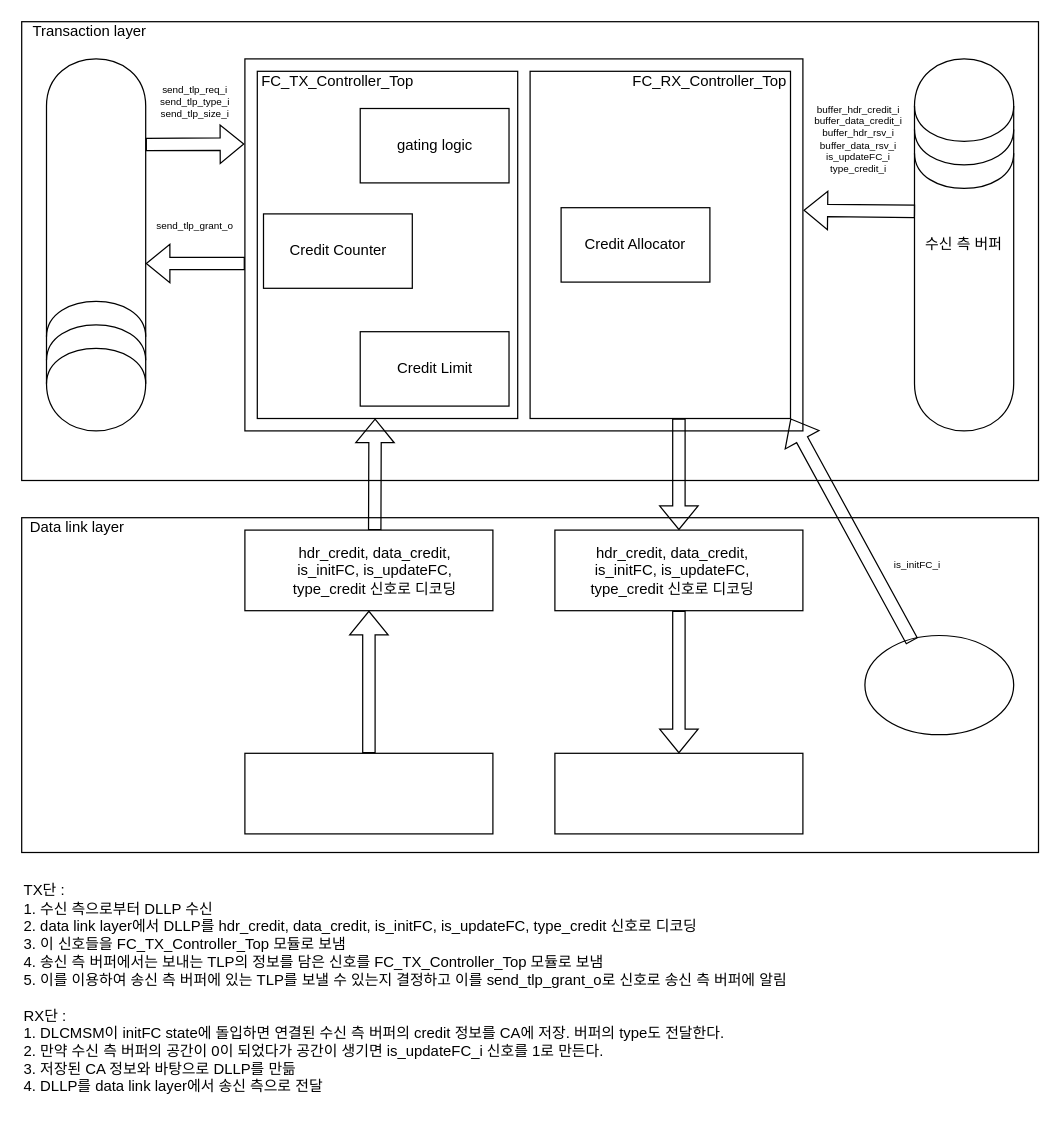
Some shapes in this 1060 by 1122 pixel diagram are drawn without their labels. Each missing label, with the centre of its shape:
DLCMSM: [939,684]
DLLP로 packet화: [678,793]
initFC, updateFC DLLP 수신: [368,793]
송신 측 버퍼: [95,244]
